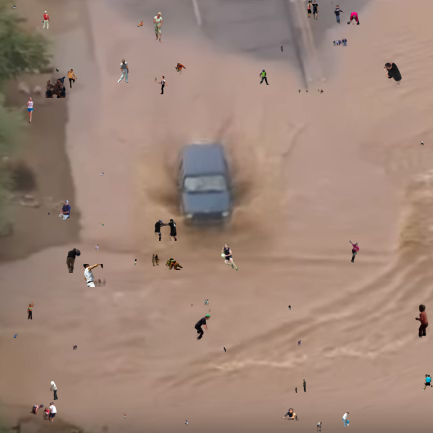Human: (334, 5, 360, 26), (171, 299, 213, 312), (67, 69, 94, 89), (30, 402, 57, 422), (220, 243, 239, 271), (83, 264, 106, 287), (44, 74, 66, 98), (414, 304, 429, 339), (307, 0, 333, 20), (158, 76, 185, 95), (194, 314, 211, 344), (154, 219, 177, 241), (42, 11, 70, 29), (152, 254, 183, 270), (383, 62, 402, 88), (66, 248, 81, 273), (153, 12, 163, 43), (117, 59, 129, 83), (58, 200, 71, 221), (349, 240, 360, 263), (281, 408, 299, 422), (26, 97, 34, 123), (422, 374, 433, 392), (259, 69, 270, 85), (295, 379, 306, 393), (50, 381, 58, 400), (175, 62, 186, 75), (27, 301, 34, 320), (298, 89, 324, 94), (333, 38, 347, 47), (342, 412, 350, 427), (317, 422, 325, 432), (137, 21, 143, 27), (48, 211, 57, 215), (95, 244, 99, 250), (134, 258, 137, 266), (154, 76, 157, 83), (13, 334, 18, 338), (12, 4, 17, 8), (420, 141, 424, 146), (73, 345, 77, 350), (99, 222, 104, 226), (100, 172, 104, 177), (222, 347, 226, 352), (427, 262, 430, 268), (123, 413, 126, 419), (298, 340, 301, 346), (56, 67, 59, 73), (185, 420, 188, 426), (280, 46, 283, 52), (288, 304, 291, 310)
